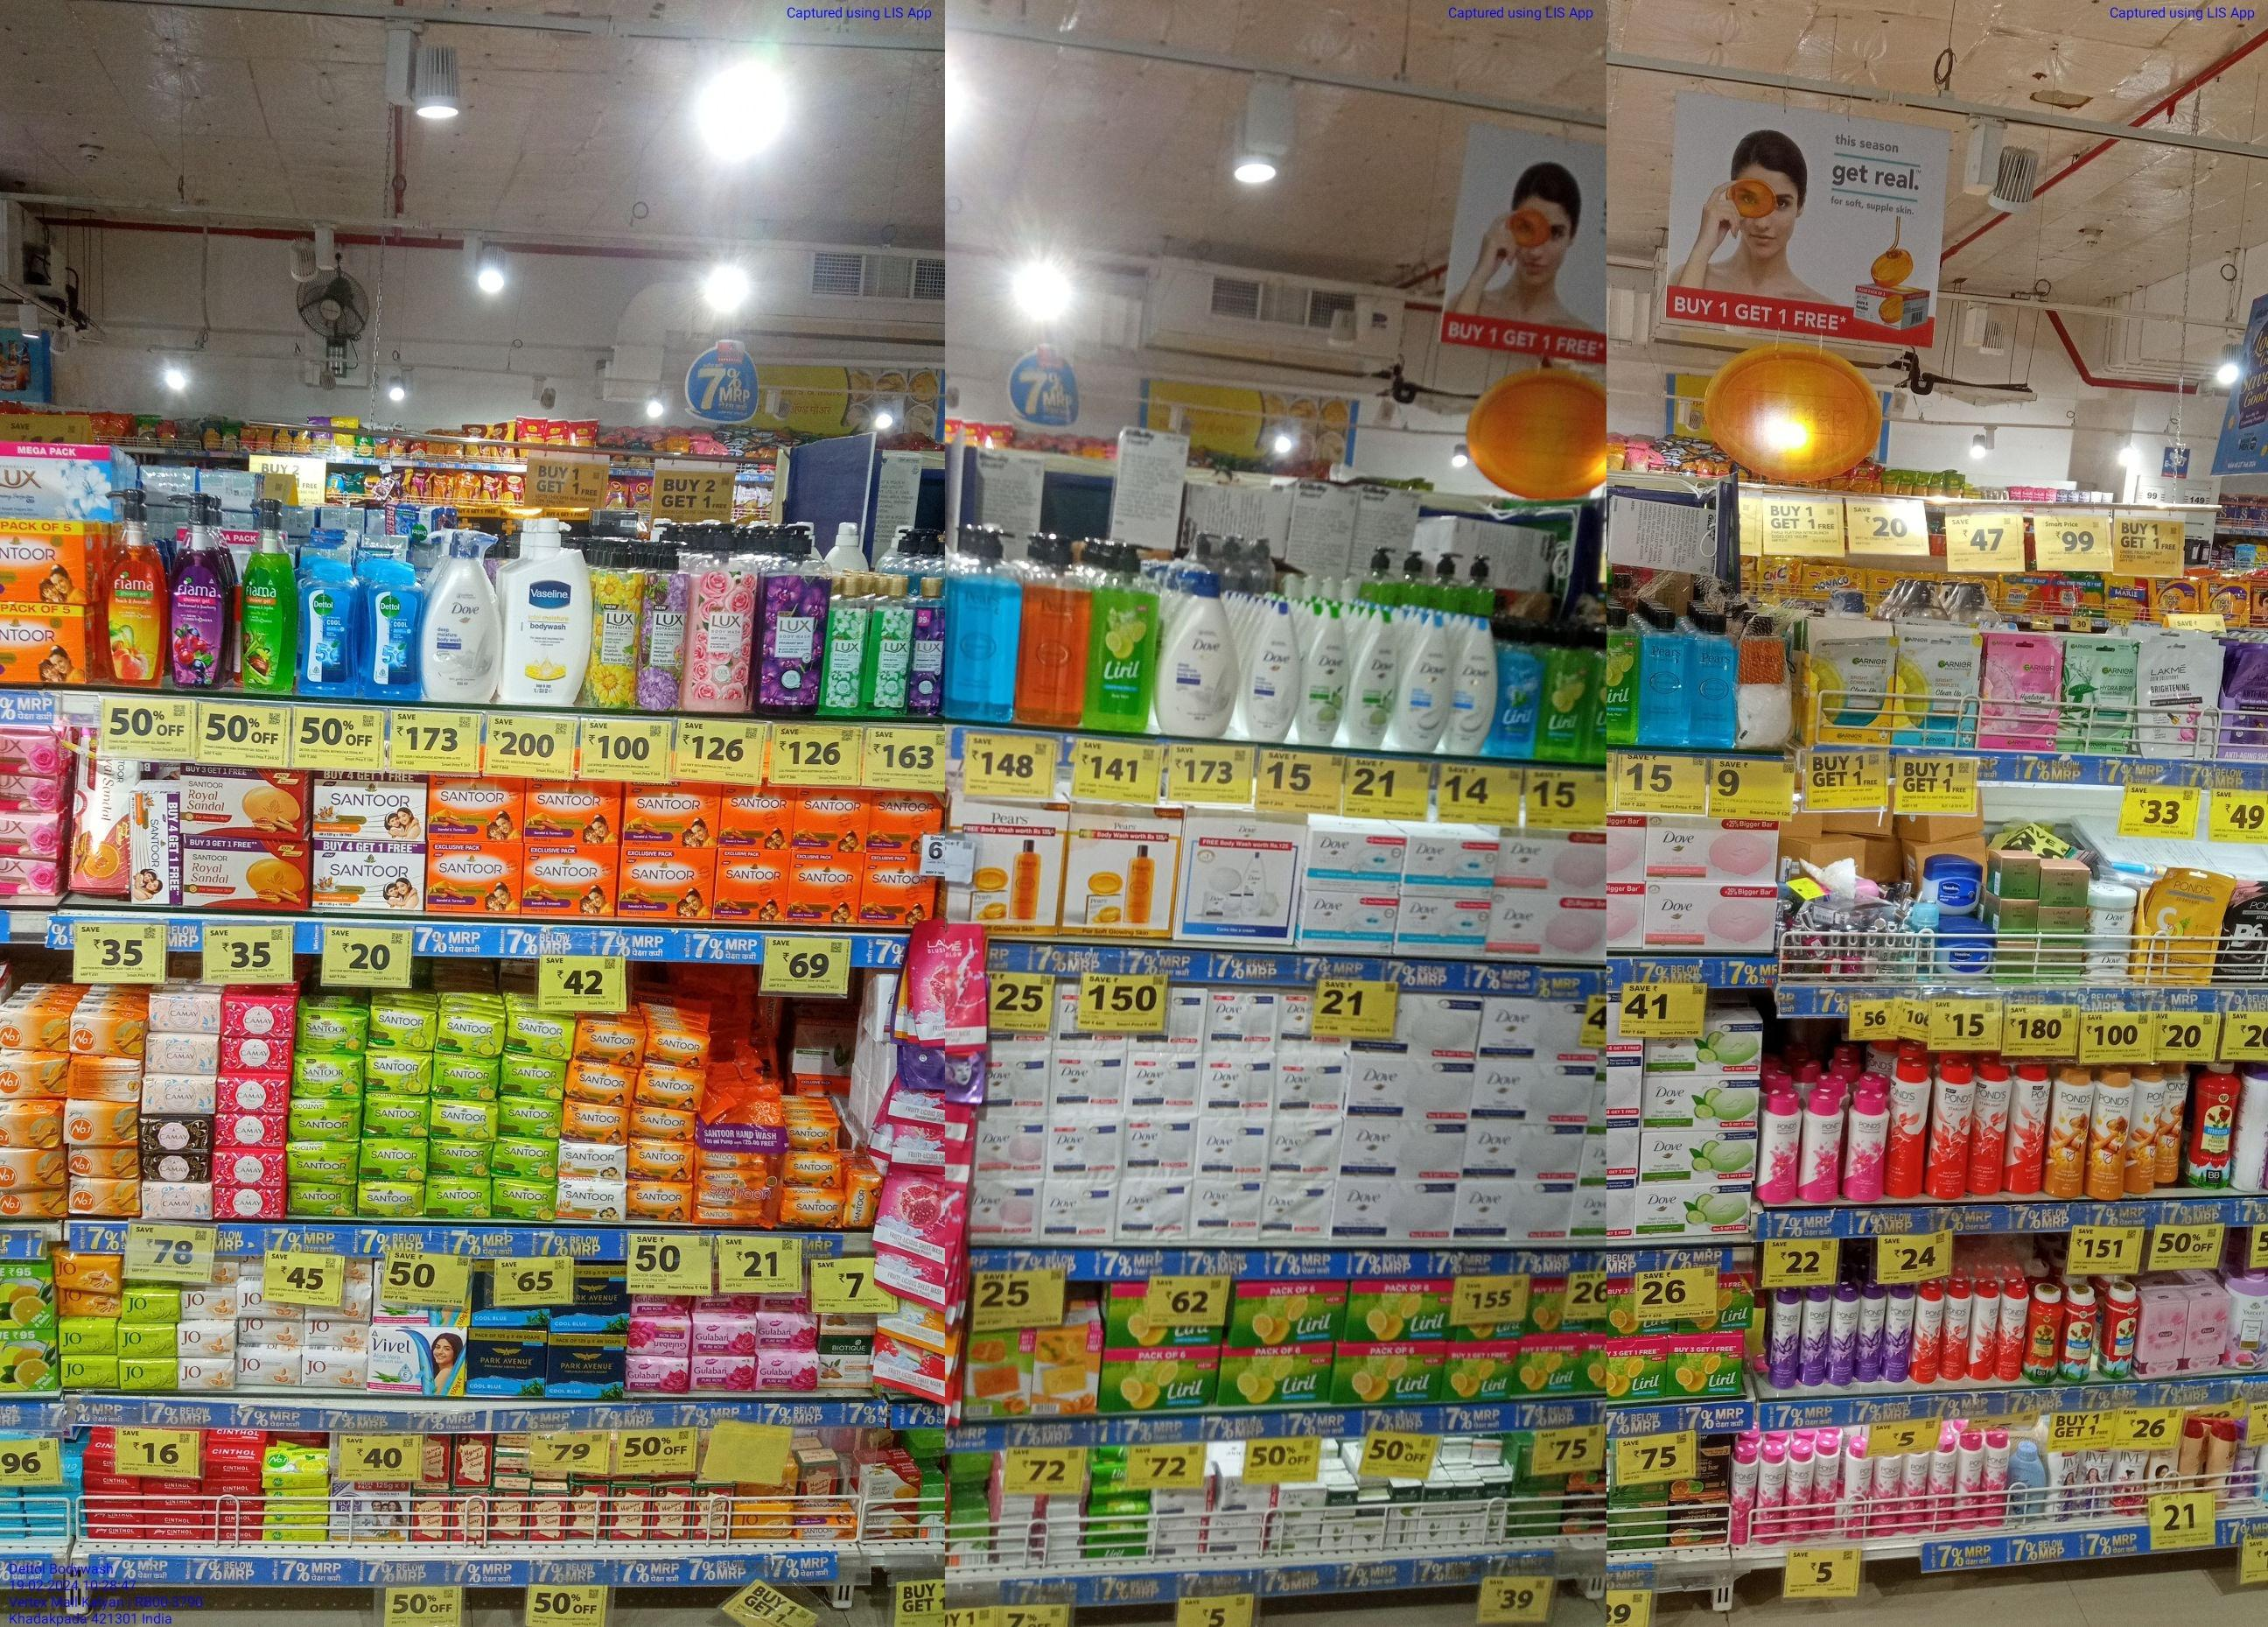Dettol_Bodywash_Cool: (297, 560, 361, 699), (361, 560, 422, 703)
Dove_Deep_Moisture_Body_Wash_250ML: (1249, 602, 1299, 741)
Dove_Gentle_Exfoliating_Body_Wash_250ML: (1397, 615, 1448, 752), (1452, 618, 1496, 759)
Dove_Refreshing_Body_Wash_250ML: (1302, 604, 1348, 747), (1350, 613, 1394, 748)
Liril_Cooling_Mint_Body_Wash_250ML: (1497, 622, 1540, 761)
Liril_Lime_and_Tea_Tree_Oil_Body_Wash_250ML: (1608, 607, 1640, 745)
Lux_Body_Wash_Skin_Detox_Freesia_Scent_and_Alove_Vera_245ML: (866, 576, 908, 717), (827, 576, 864, 717)
Palmolive_Aroma_Relax_250ML: (908, 576, 943, 717)
